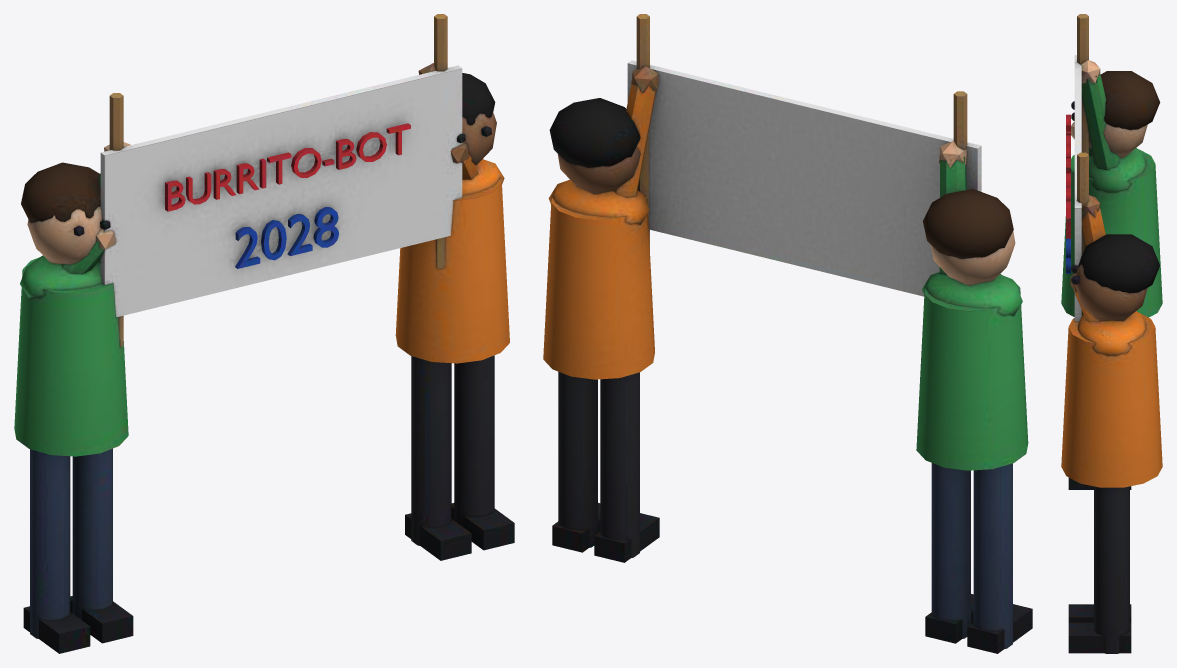
The model's file is protesta.glb.
3 renders of one model, left to right at view 1: azimuth 30°, elevation 25°; view 2: azimuth 150°, elevation 25°; view 3: azimuth 270°, elevation 25°, orthographic. The views are drawn at different scales.
Parts seen in each view (by area): view 1: protesta; view 2: protesta; view 3: protesta.
Boxes of the visible parts, bbox=[...] form: protesta: bbox=[14, 14, 514, 653]; protesta: bbox=[543, 14, 1032, 653]; protesta: bbox=[1061, 14, 1162, 653].
Size of the model in its own units: 2.01 by 2.15 by 0.42.
Materials: 1 (1 with a texture image).
